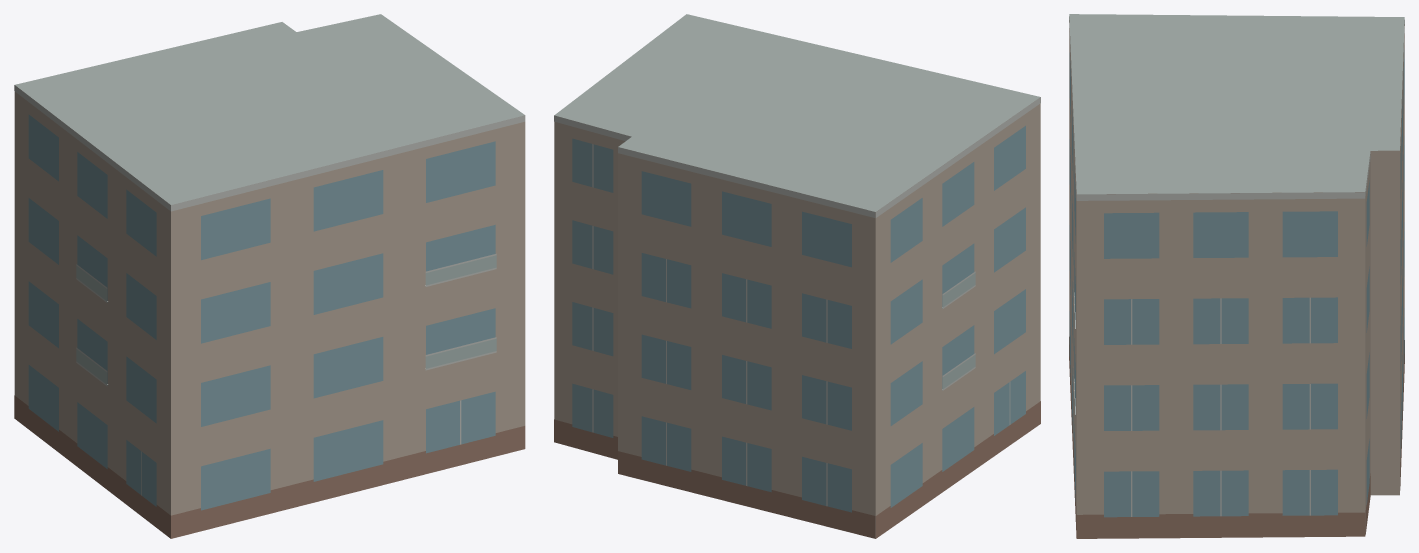
File: survey-upis-32816713.glb
The picture shows the model from 3 angles, left to right: view 1: azimuth 30°, elevation 25°; view 2: azimuth 150°, elevation 25°; view 3: azimuth 270°, elevation 25°; orthographic projection. The views are drawn at different scales.
Parts seen in each view (by area): view 1: survey-upis-32816713.tmp; view 2: survey-upis-32816713.tmp; view 3: survey-upis-32816713.tmp.
Boxes of the visible parts, x1=… form: survey-upis-32816713.tmp: x1=14, y1=14, x2=525, y2=538; survey-upis-32816713.tmp: x1=554, y1=14, x2=1040, y2=538; survey-upis-32816713.tmp: x1=1069, y1=14, x2=1404, y2=538.
Bounding box in the file's own units: 14.41 × 12.83 × 11.34.
